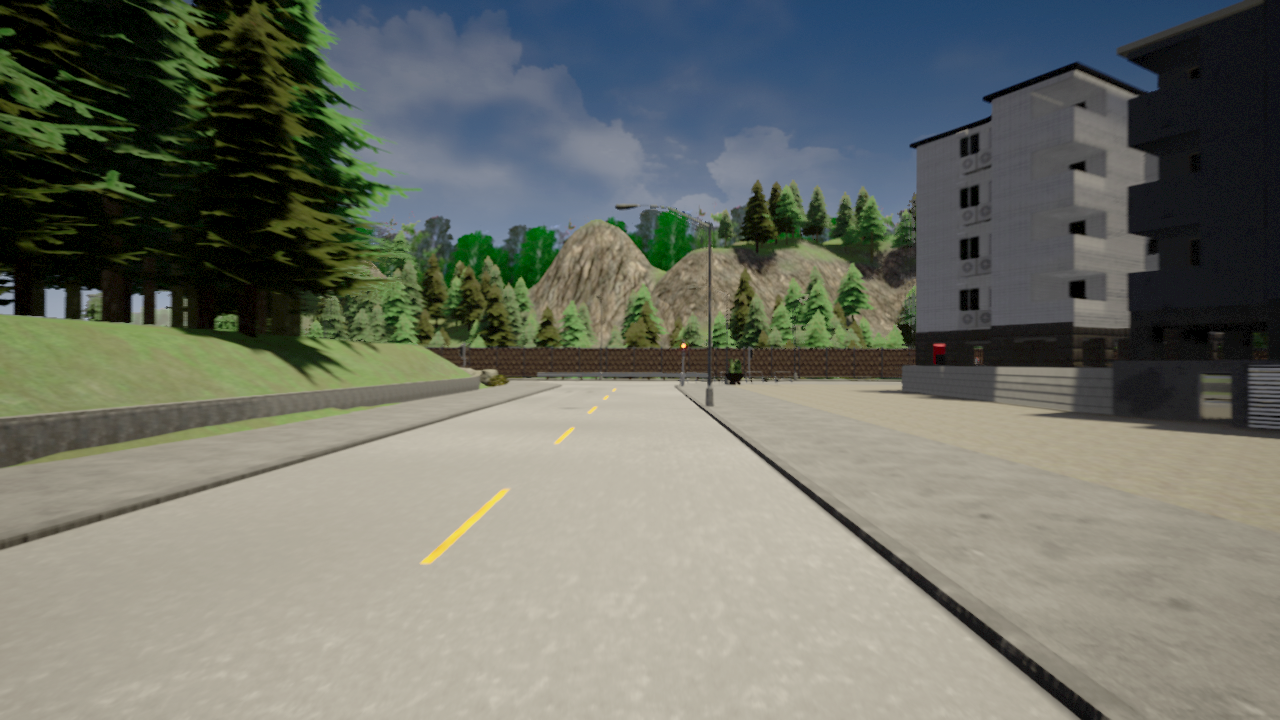red: (680, 342, 686, 357)
